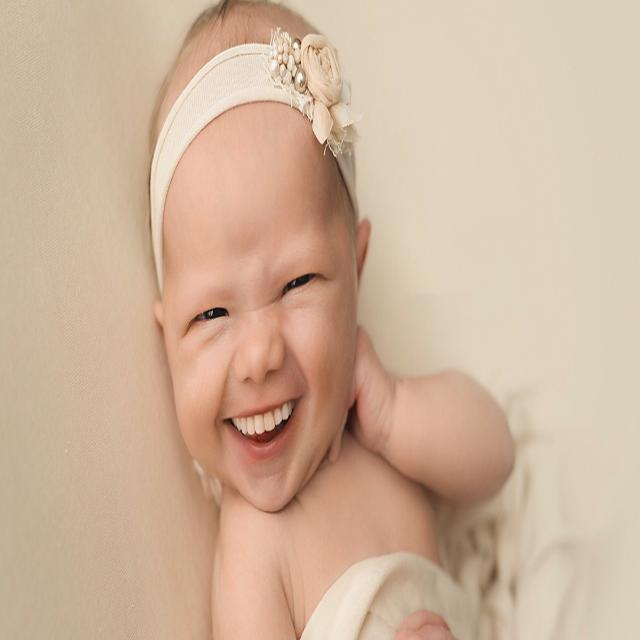non-dog: (142, 0, 513, 640)
